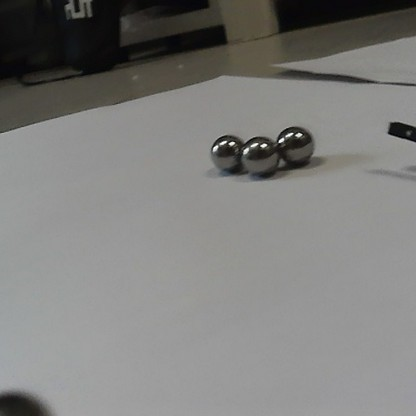ironball: (274, 120, 316, 169), (239, 134, 284, 179), (207, 131, 243, 173)
